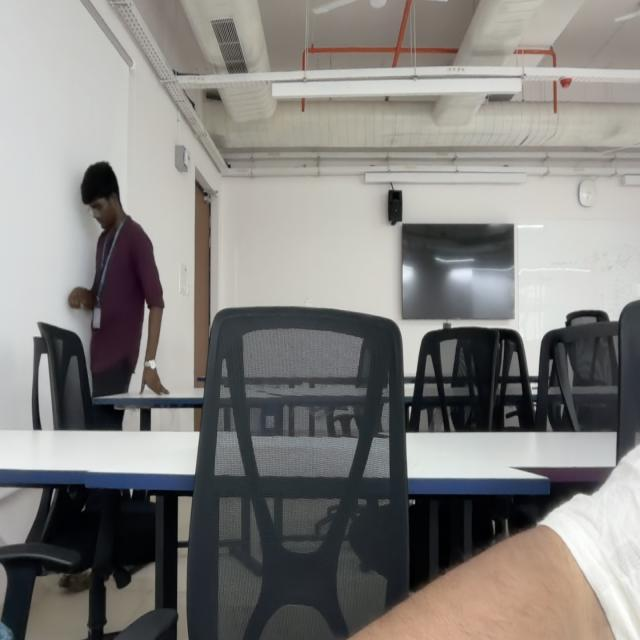ravindra: (80, 163, 123, 236)
